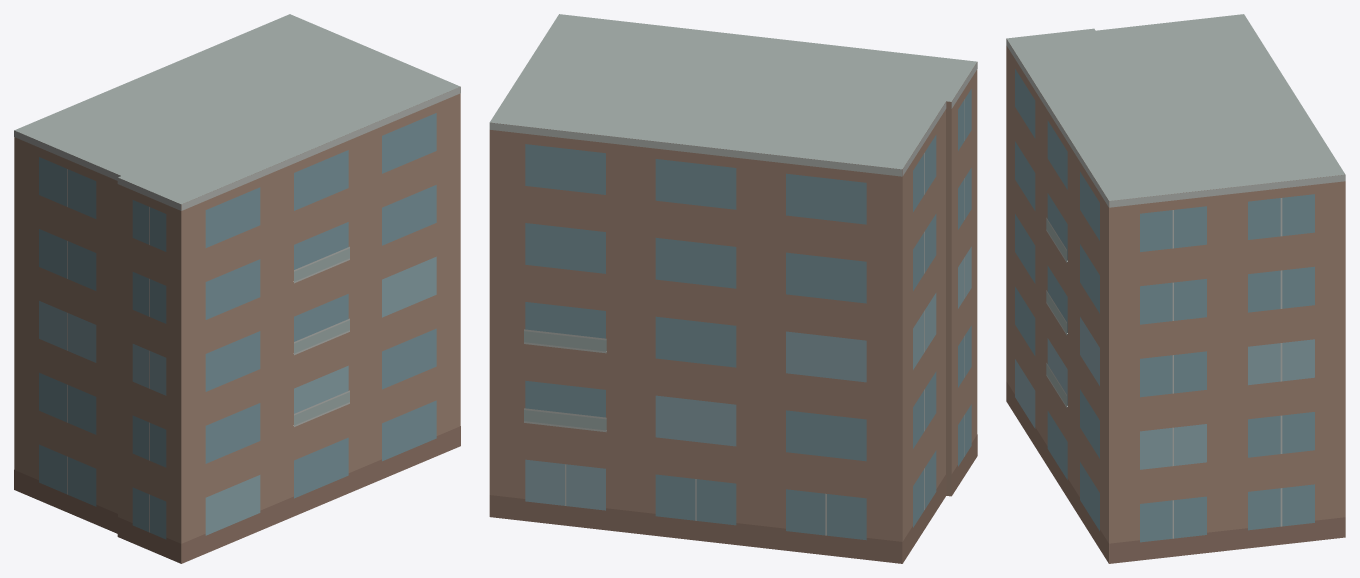
Rendered from survey-upis-32719784.glb.
3 renders of one model, left to right at view 1: azimuth 30°, elevation 25°; view 2: azimuth 150°, elevation 25°; view 3: azimuth 270°, elevation 25°, orthographic. The views are drawn at different scales.
Parts seen in each view (by area): view 1: survey-upis-32719784.tmp; view 2: survey-upis-32719784.tmp; view 3: survey-upis-32719784.tmp.
Part boxes in pixels (x1,y1,x2,y2): survey-upis-32719784.tmp: (14,14,460,563); survey-upis-32719784.tmp: (489,14,977,563); survey-upis-32719784.tmp: (1006,14,1345,563).
Bounding box in the file's own units: 14.72 × 13.3 × 11.28.
